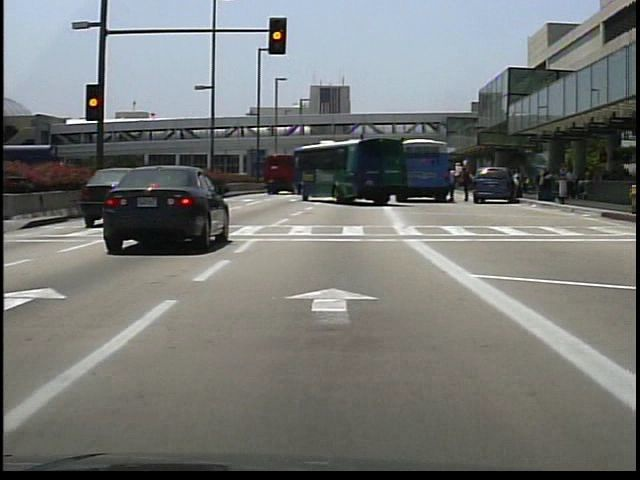person: (459, 161, 472, 203), (514, 168, 526, 203), (452, 164, 453, 203)
